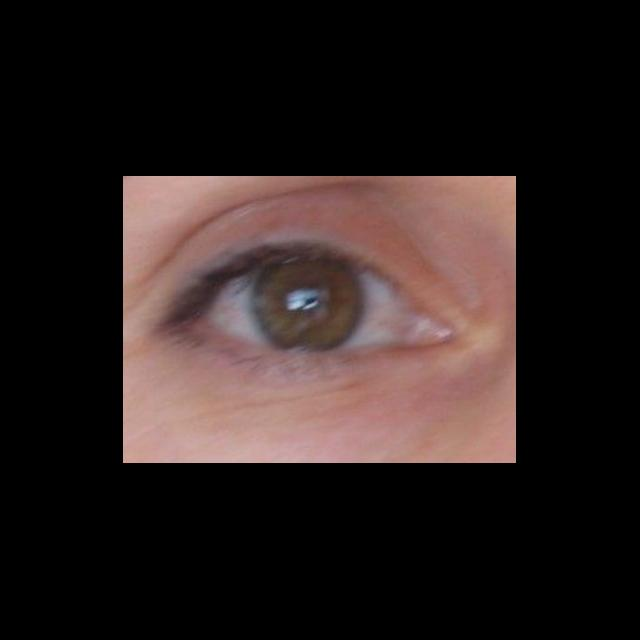eye: (213, 257, 415, 354)
iris: (255, 261, 359, 351)
